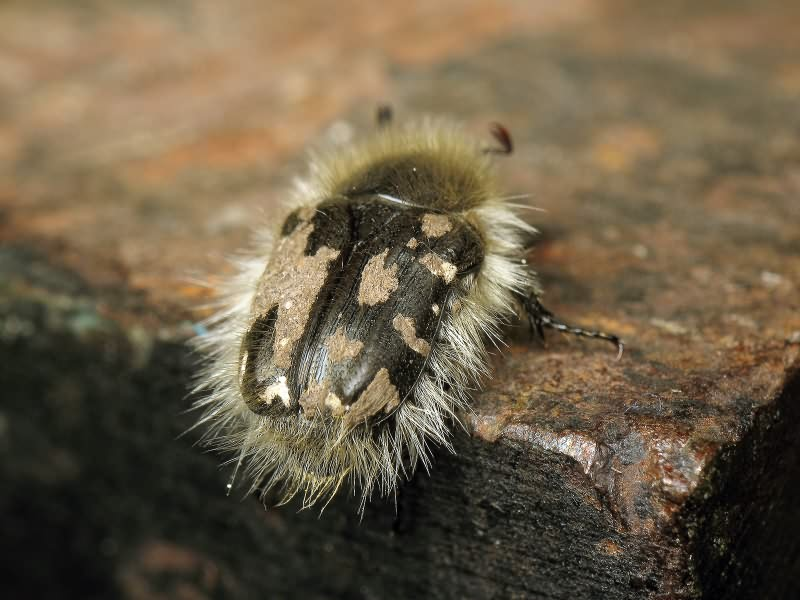Tropinota_hirta: (165, 97, 630, 528)
